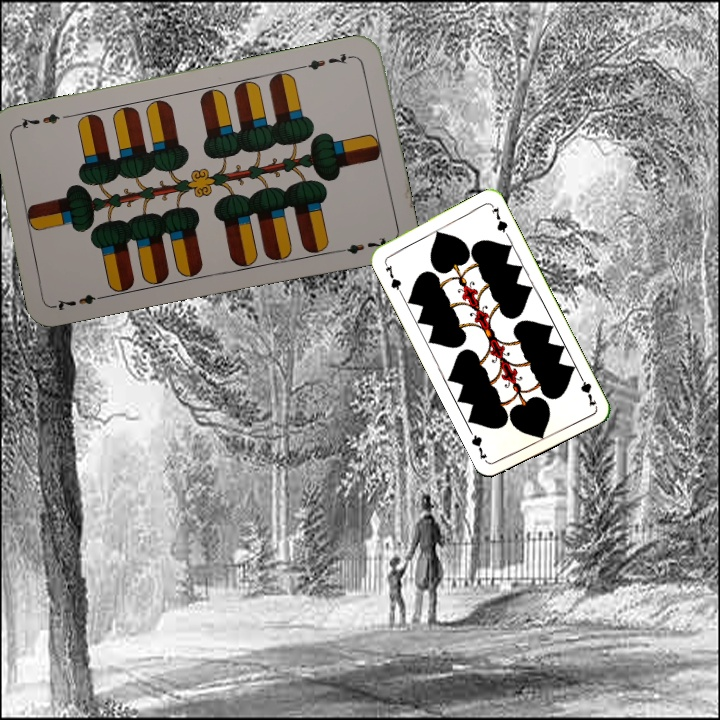E7: (298, 49, 356, 73), (51, 290, 110, 313)
G7: (575, 370, 599, 409), (380, 258, 404, 296)
